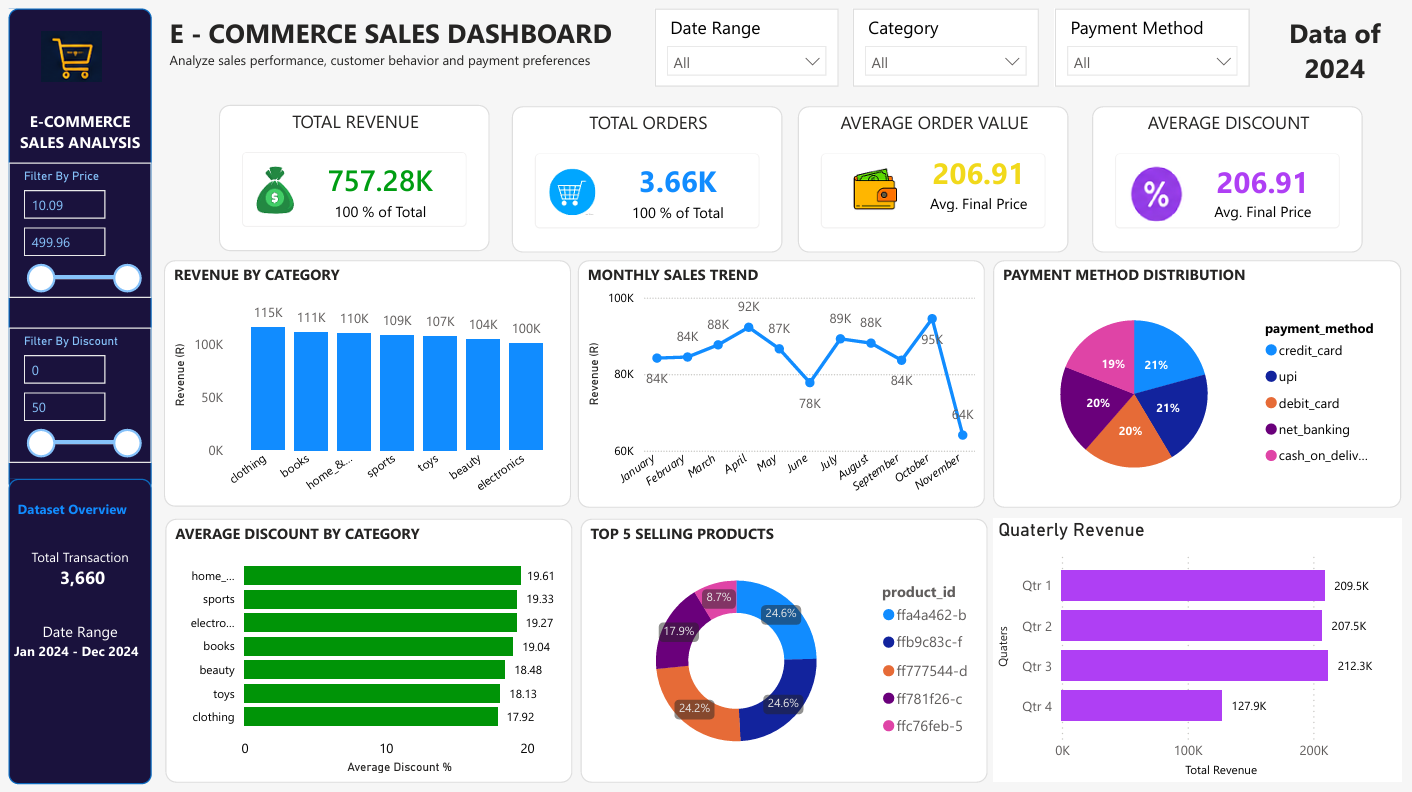

This screenshot's page, from the dashboard's own definition file:
{"tool":"powerbi","page":{"name":"Page 2","canvas":[1280,720],"ordinal":0},"visuals":[{"type":"textbox","box":[150,8.6,430,88.6],"z":0},{"type":"shape","box":[8.8,8.8,130,440],"z":1000},{"type":"shape","box":[8.8,436.2,130,277.5],"z":2000},{"type":"image","box":[38.6,25.3,55.5,55.5],"z":3000},{"type":"textbox","box":[8.6,95.7,130,68.6],"z":4000},{"type":"slicer","fields":{"Values":["cleaned_ecommerce_sales.purchase_date.Variation.Date Hierarchy.Month"]},"box":[595.7,8.6,167.1,71.4],"z":5000},{"type":"slicer","fields":{"Values":["cleaned_ecommerce_sales.category"]},"box":[775.7,8.6,168.6,71.4],"z":6000},{"type":"slicer","fields":{"Values":["cleaned_ecommerce_sales.payment_method"]},"box":[960,8.6,177.1,71.4],"z":7000},{"type":"cardVisual","title":"TOTAL REVENUE","fields":{"Data":["Sum(cleaned_ecommerce_sales.final_price(rs.))"]},"box":[200,96.2,246.2,132.5],"z":8000},{"type":"cardVisual","title":"TOTAL ORDERS","fields":{"Data":["CountNonNull(cleaned_ecommerce_sales.product_id)"]},"box":[466.2,97.5,246.2,132.5],"z":9000},{"type":"cardVisual","title":"AVERAGE ORDER VALUE","fields":{"Data":["Avg(cleaned_ecommerce_sales.final_price(rs.))"]},"box":[726.2,97.5,246.2,132.5],"z":10000},{"type":"columnChart","title":"REVENUE BY CATEGORY","fields":{"Y":["Sum(cleaned_ecommerce_sales.final_price(rs.))"],"Category":["cleaned_ecommerce_sales.category"]},"box":[150,237.2,370,224.4],"z":11000},{"type":"lineChart","title":"MONTHLY SALES TREND","fields":{"Category":["cleaned_ecommerce_sales.purchase_date.Variation.Date Hierarchy.Month"],"Y":["Sum(cleaned_ecommerce_sales.price_(rs.))"]},"box":[526.5,237.1,370,224.7],"z":12000},{"type":"pieChart","title":"PAYMENT METHOD DISTRIBUTION","fields":{"Category":["cleaned_ecommerce_sales.payment_method"],"Y":["CountNonNull(cleaned_ecommerce_sales.payment_method)"]},"box":[903.5,237.1,371.2,224.7],"z":13000},{"type":"cardVisual","title":"AVERAGE DISCOUNT","fields":{"Data":["Avg(cleaned_ecommerce_sales.final_price(rs.))"]},"box":[993.8,97.5,246.2,132.5],"z":14000},{"type":"barChart","title":"AVERAGE DISCOUNT BY CATEGORY","fields":{"Category":["cleaned_ecommerce_sales.category"],"Y":["Avg(cleaned_ecommerce_sales.discount_(%))"]},"box":[151.4,472.9,370,240],"z":15000},{"type":"donutChart","title":"TOP 5 SELLING PRODUCTS","fields":{"Y":["Sum(cleaned_ecommerce_sales.final_price(rs.))"],"Category":["cleaned_ecommerce_sales.product_id"]},"box":[528.6,472.9,370,240],"z":16000},{"type":"barChart","title":"Quaterly Revenue","fields":{"Category":["cleaned_ecommerce_sales.purchase_date.Variation.Date Hierarchy.Quarter"],"Y":["Sum(cleaned_ecommerce_sales.final_price(rs.))"]},"box":[904,473,371,240],"z":17000},{"type":"textbox","box":[1154.3,8.6,121.4,77.1],"z":18000},{"type":"slicer","fields":{"Values":["cleaned_ecommerce_sales.price_(rs.)"]},"box":[8.6,148.6,130,122.9],"z":19000},{"type":"slicer","fields":{"Values":["cleaned_ecommerce_sales.discount_(%)"]},"box":[8.6,298.6,130,122.9],"z":20000},{"type":"textbox","box":[8.6,448.6,115.7,44.3],"z":21000},{"type":"textbox","box":[8.6,492.9,130,52.9],"z":22000},{"type":"textbox","box":[8.6,561.4,130,88.6],"z":23000}]}

Visuals, with their boxes in screenshot pixels (x1, y1, x2, y2), scaled from the page's 1280x720 canvas onto the 1412x792 screenshot:
textbox: bbox(165, 9, 640, 107)
shape: bbox(10, 10, 153, 494)
shape: bbox(10, 480, 153, 785)
image: bbox(43, 28, 104, 89)
textbox: bbox(9, 105, 153, 181)
slicer - cleaned_ecommerce_sales.purchase_date.Variation.Date Hierarchy.Month: bbox(657, 9, 841, 88)
slicer - cleaned_ecommerce_sales.category: bbox(856, 9, 1042, 88)
slicer - cleaned_ecommerce_sales.payment_method: bbox(1059, 9, 1254, 88)
"TOTAL REVENUE" cardVisual: bbox(221, 106, 492, 252)
"TOTAL ORDERS" cardVisual: bbox(514, 107, 786, 253)
"AVERAGE ORDER VALUE" cardVisual: bbox(801, 107, 1073, 253)
"REVENUE BY CATEGORY" columnChart: bbox(165, 261, 574, 508)
"MONTHLY SALES TREND" lineChart: bbox(581, 261, 989, 508)
"PAYMENT METHOD DISTRIBUTION" pieChart: bbox(997, 261, 1406, 508)
"AVERAGE DISCOUNT" cardVisual: bbox(1096, 107, 1368, 253)
"AVERAGE DISCOUNT BY CATEGORY" barChart: bbox(167, 520, 575, 784)
"TOP 5 SELLING PRODUCTS" donutChart: bbox(583, 520, 991, 784)
"Quaterly Revenue" barChart: bbox(997, 520, 1406, 784)
textbox: bbox(1273, 9, 1407, 94)
slicer - cleaned_ecommerce_sales.price_(rs.): bbox(9, 163, 153, 299)
slicer - cleaned_ecommerce_sales.discount_(%): bbox(9, 328, 153, 464)
textbox: bbox(9, 493, 137, 542)
textbox: bbox(9, 542, 153, 600)
textbox: bbox(9, 618, 153, 715)
